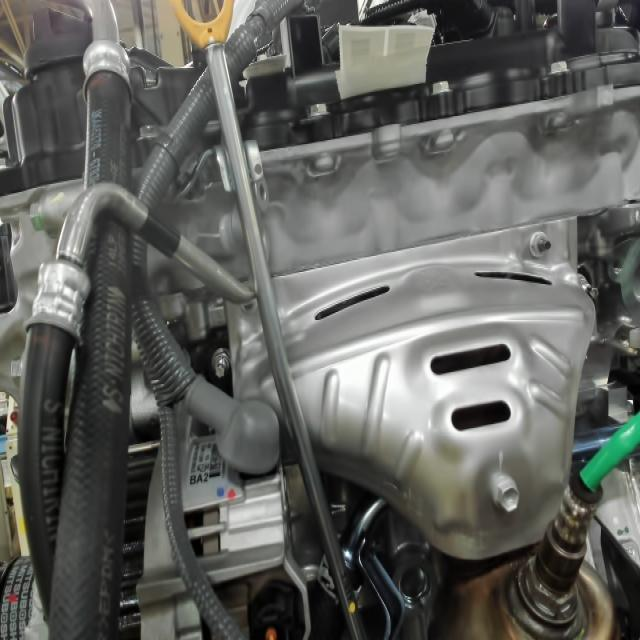Alternator-BA2: (188, 457, 221, 492)
Hose Discharge-HT: (130, 204, 188, 262)
